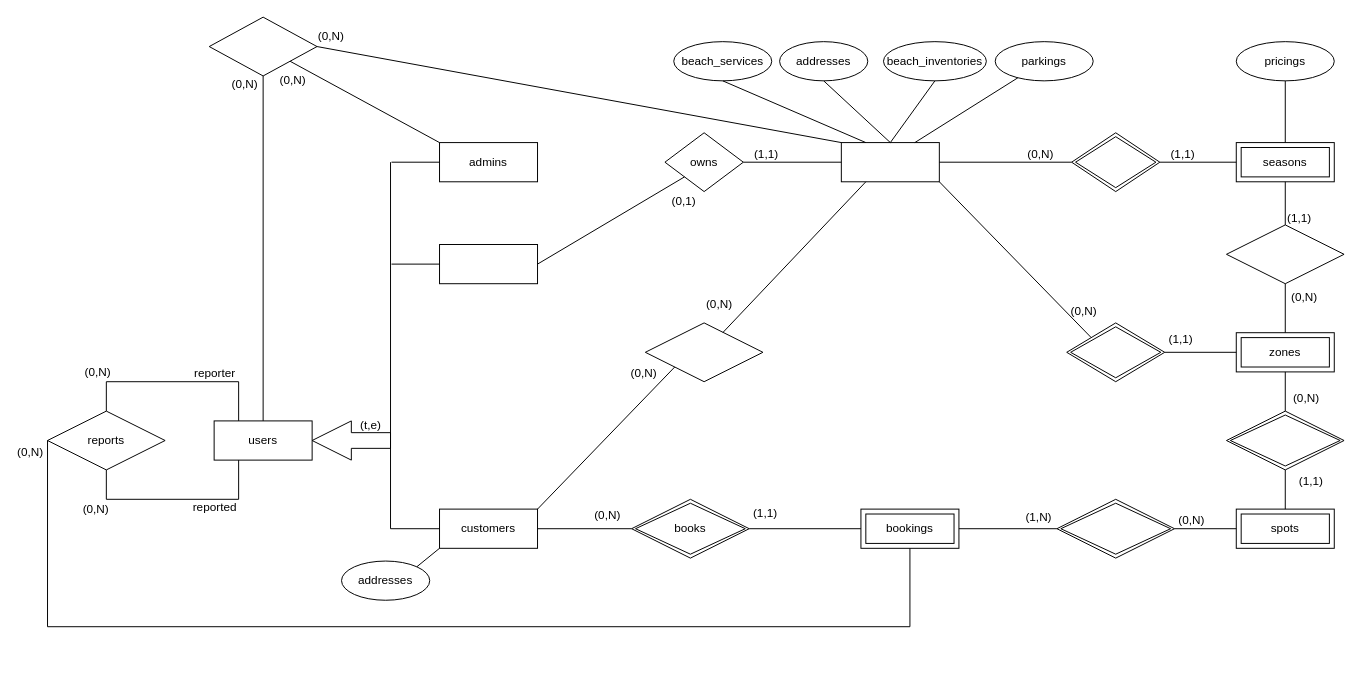
Some shapes in this 1361 by 681 pixel diagram are drawn without their labels. The centre of each missing label's shape, as x and y in pixels:
bans: point 262,46
beaches: point 889,162
booking_spots: point 1115,528
composed of: point 1284,440
divided into: point 1115,352
owner: point 488,264
periodicity: point 1115,162
reviews: point 703,352
zone_tarrifs: point 1284,254
